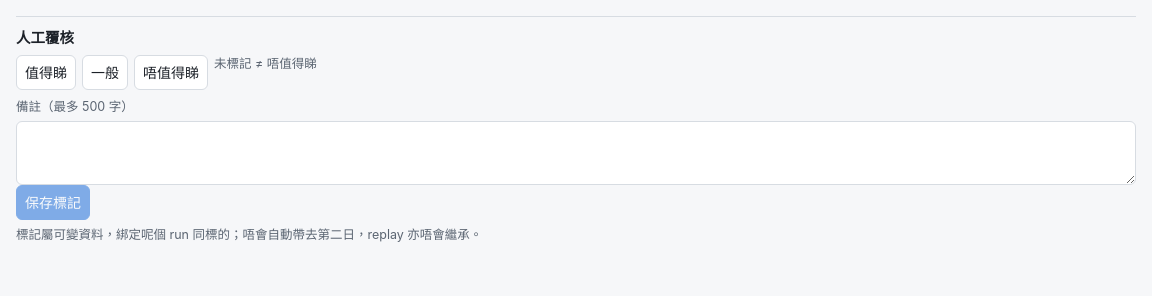
Test: ReviewPanel › keeps the input and shows the error on a network failure
Expected: the element showing "值得睇 一般 唔值得睇 未標記 ≠ 唔值得睇" is shown, [16,55,317,90]
Type "保留輸入" into the text box labelled "備註（最多 500 字）".
click(576, 152); type("保留輸入")  # box [16,120,1136,184]
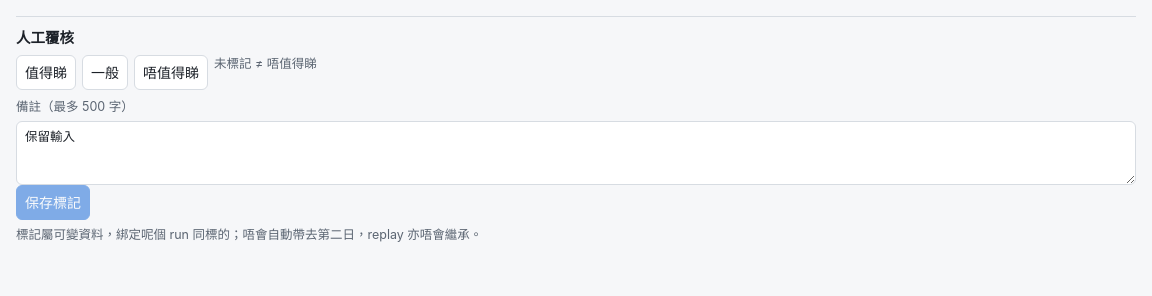
Click the button "值得睇".
click(46, 72)  # box [16,55,76,90]
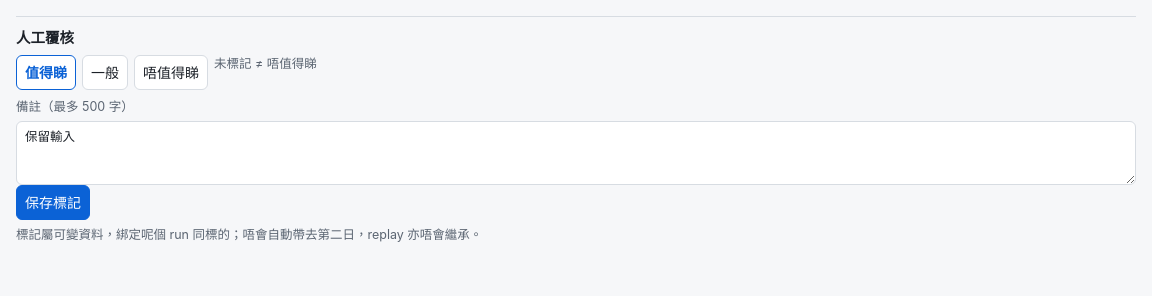
Click the button "保存標記".
click(53, 202)  # box [16,184,90,220]
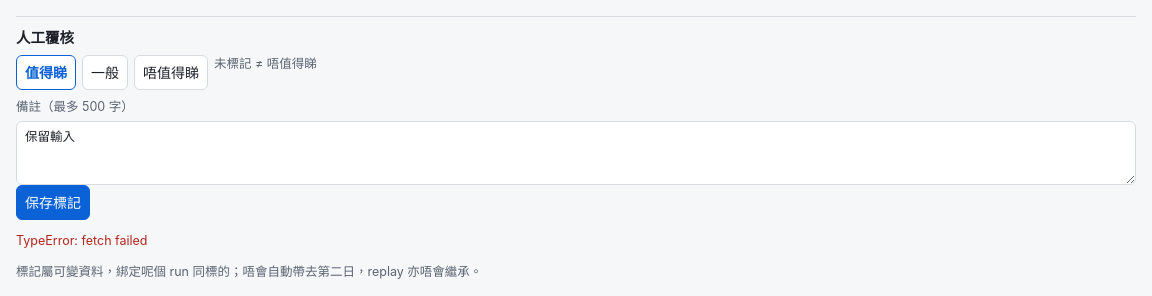
Result: the text "TypeError: fetch failed" is shown at [16,233,148,248]
